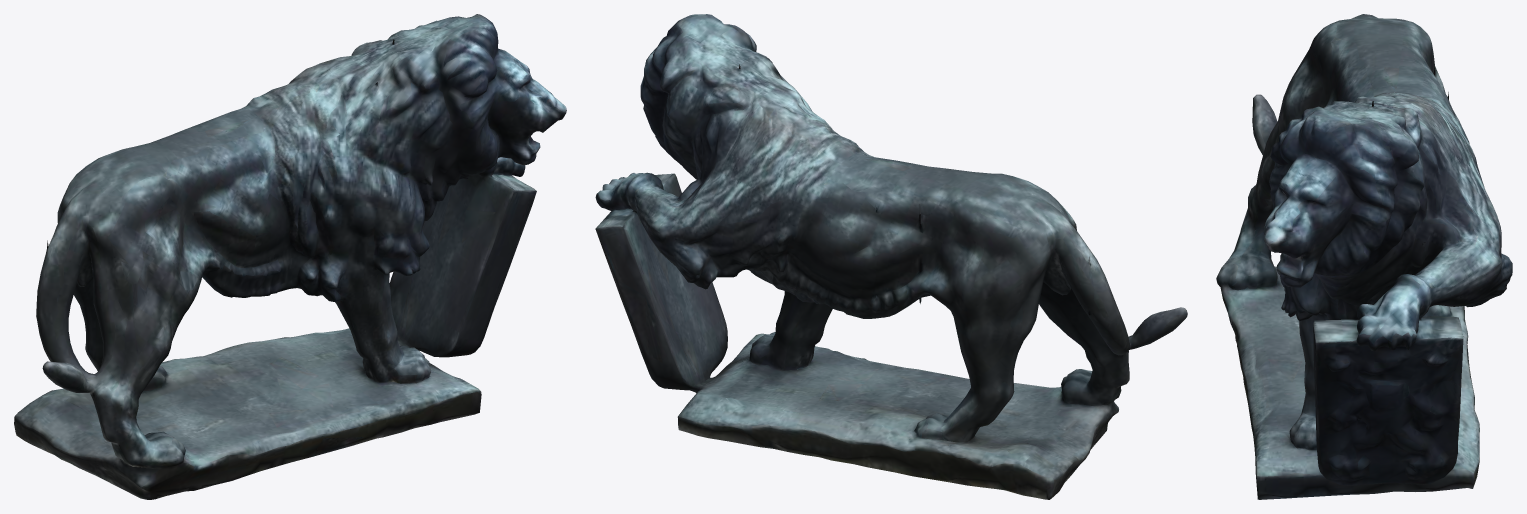
File: estatua_leao_vermelho.glb
3 renders of one model, left to right at view 1: azimuth 30°, elevation 25°; view 2: azimuth 150°, elevation 25°; view 3: azimuth 270°, elevation 25°, orthographic. The views are drawn at different scales.
Visible parts, largest first — view 1: estatua_leao_vermelho; view 2: estatua_leao_vermelho; view 3: estatua_leao_vermelho.
Part boxes in pixels (x1,y1,x2,y2): estatua_leao_vermelho: (14,14,566,499); estatua_leao_vermelho: (595,14,1187,499); estatua_leao_vermelho: (1216,14,1512,499).
Bounding box in the file's own units: 3.25 × 2.1 × 1.41.
1 material, 1 textured.
